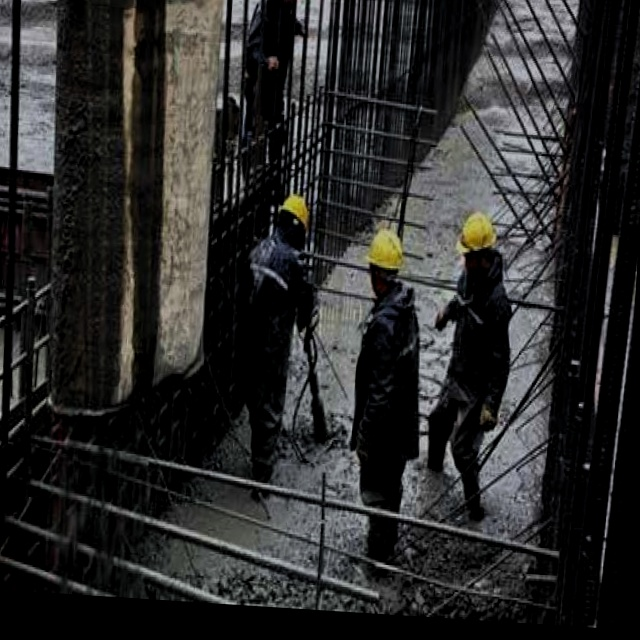Con_Casco: (454, 210, 499, 280), (366, 226, 404, 292), (275, 192, 312, 247)
